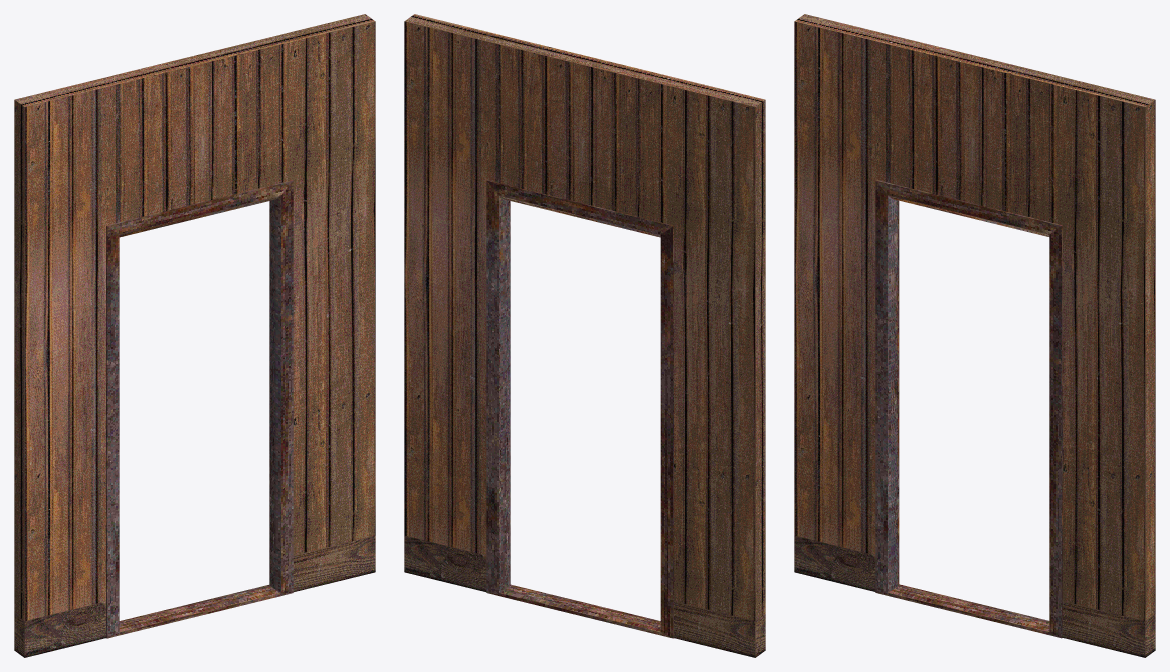
Rendered from wall-int-door.glb.
3 views of the same model, side by side, from view 1: azimuth 30°, elevation 25°; view 2: azimuth 150°, elevation 25°; view 3: azimuth 330°, elevation 25° (orthographic).
Visible parts, largest first — view 1: wall-int-door.001; view 2: wall-int-door.001; view 3: wall-int-door.001.
Boxes of the visible parts, x1,y1,x2,y2 form: wall-int-door.001: (14,14,375,657); wall-int-door.001: (404,14,765,657); wall-int-door.001: (794,14,1155,657).
Size of the model in its own units: 2 by 3 by 0.114.
3 materials, 3 textured.
